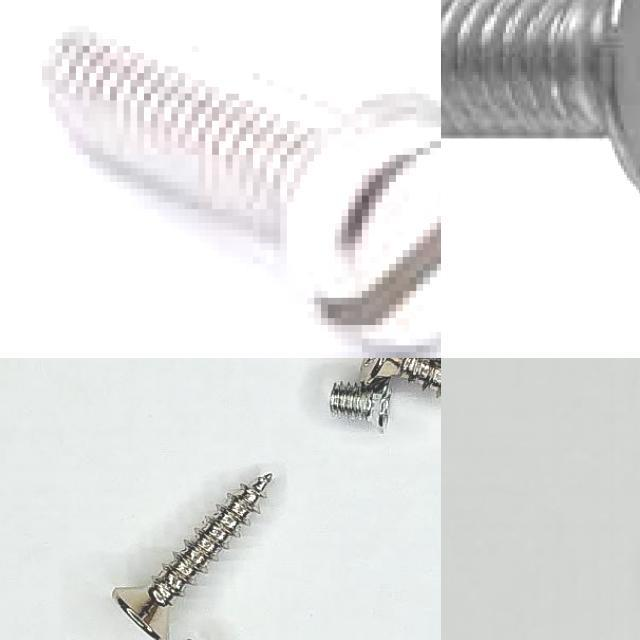Screw: (35, 25, 441, 358), (441, 0, 640, 194), (112, 474, 271, 640), (329, 381, 389, 431), (359, 358, 441, 392)
